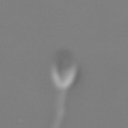normal: (45, 87, 85, 128)
